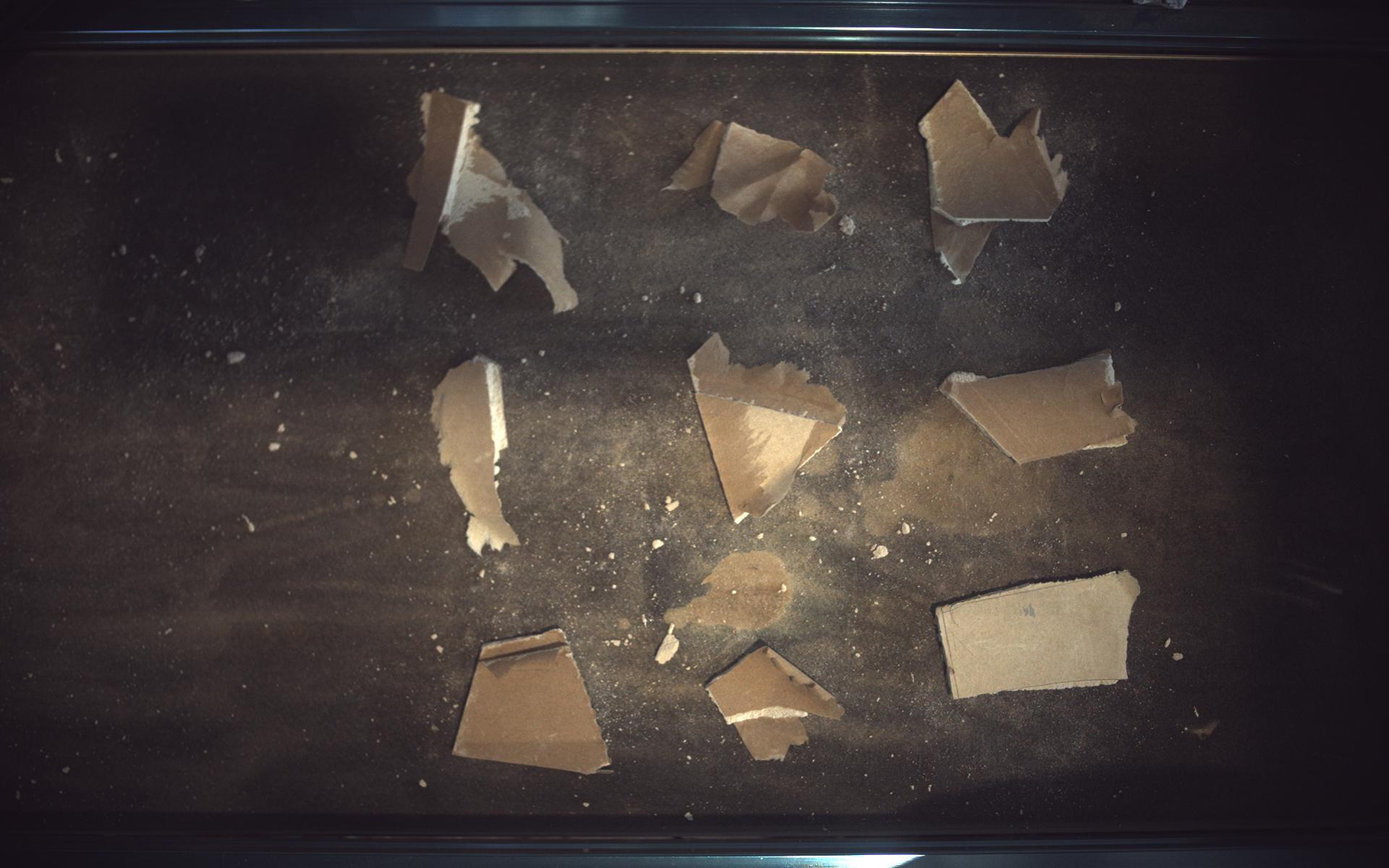gypsum_board: (404, 90, 579, 312), (921, 79, 1071, 281), (689, 333, 848, 522), (938, 571, 1143, 700), (453, 629, 611, 775), (941, 351, 1139, 464), (665, 119, 839, 231), (431, 355, 519, 555), (708, 644, 846, 762)
